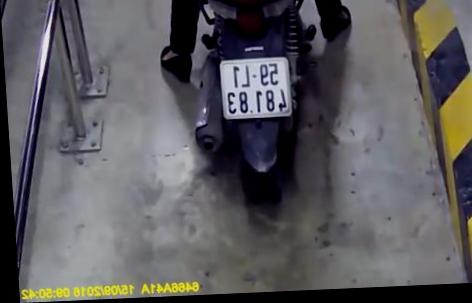License_Plate: (211, 50, 303, 129)
